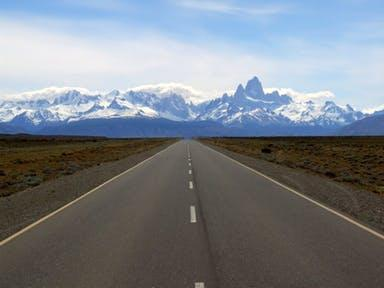mountain: (2, 78, 384, 134)
